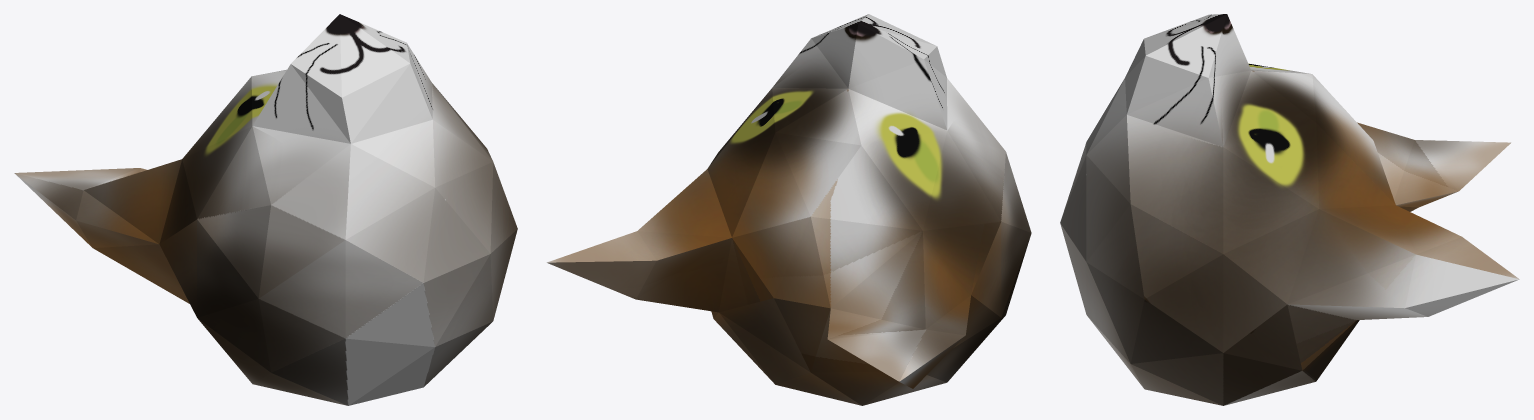
Rendered from iconCat.dae.
3 views of the same model, side by side, from view 1: azimuth 30°, elevation 25°; view 2: azimuth 150°, elevation 25°; view 3: azimuth 270°, elevation 25° (orthographic). The views are drawn at different scales.
Parts seen in each view (by area): view 1: Icosphere; view 2: Icosphere; view 3: Icosphere.
Boxes of the visible parts, <box> form: Icosphere: <box>14,14,517,405</box>; Icosphere: <box>547,14,1031,405</box>; Icosphere: <box>1060,14,1519,405</box>.
Bounding box in the file's own units: 0.2331 × 0.2531 × 0.2299.
